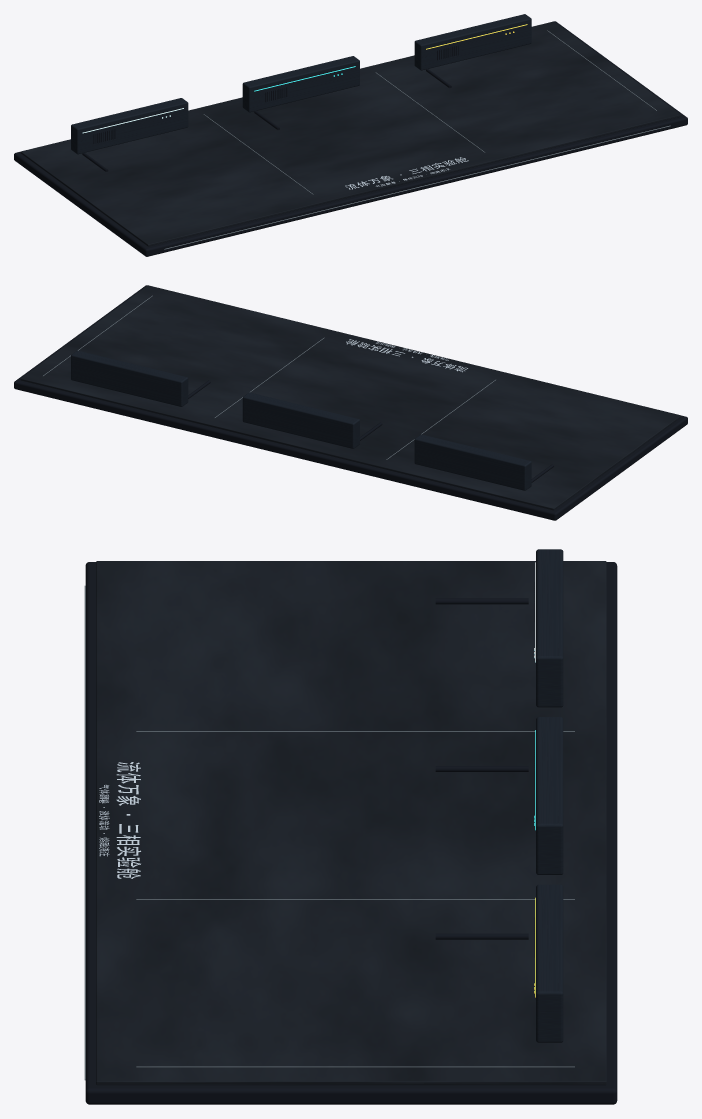
File: matter-stage.9fe54641a936.glb
3 views of the same model, one above another, from view 1: azimuth 30°, elevation 25°; view 2: azimuth 150°, elevation 25°; view 3: azimuth 270°, elevation 25° (orthographic). The views are drawn at different scales.
Visible parts, largest first — view 1: static_satin_basalt_00064, static_graphite_ceramic_00067, static_anodized_charcoal_00063, static_brushed_titanium_00065, static_etched_lettering_00066; view 2: static_satin_basalt_00064, static_graphite_ceramic_00067, static_anodized_charcoal_00063, static_etched_lettering_00066, static_brushed_titanium_00065; view 3: static_satin_basalt_00064, static_anodized_charcoal_00063, static_graphite_ceramic_00067, static_brushed_titanium_00065, static_etched_lettering_00066.
Boxes of the visible parts, box(x1,y1,x2,y2) form: static_satin_basalt_00064: box(20, 21, 681, 246); static_graphite_ceramic_00067: box(71, 14, 531, 154); static_anodized_charcoal_00063: box(14, 21, 687, 256); static_brushed_titanium_00065: box(164, 30, 670, 249); static_etched_lettering_00066: box(345, 157, 468, 189); static_satin_basalt_00064: box(20, 285, 681, 510); static_graphite_ceramic_00067: box(71, 350, 531, 490); static_anodized_charcoal_00063: box(14, 285, 687, 520); static_etched_lettering_00066: box(346, 339, 467, 372); static_brushed_titanium_00065: box(43, 295, 495, 459); static_satin_basalt_00064: box(96, 561, 606, 1085); static_anodized_charcoal_00063: box(85, 562, 617, 1104); static_graphite_ceramic_00067: box(536, 549, 563, 1042); static_brushed_titanium_00065: box(84, 585, 574, 1080); static_etched_lettering_00066: box(99, 762, 140, 878).
Size of the model in its own units: 29.7 by 1.86 by 12.62.
8 materials, 3 textured.
